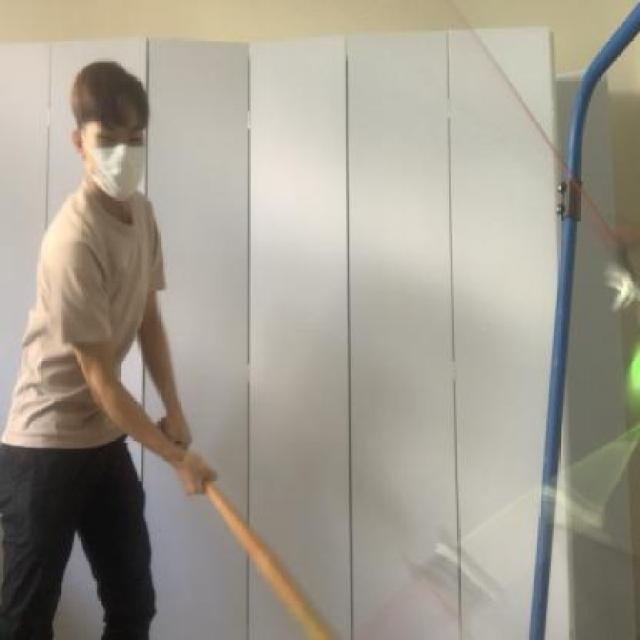baseball: (615, 334, 640, 414)
